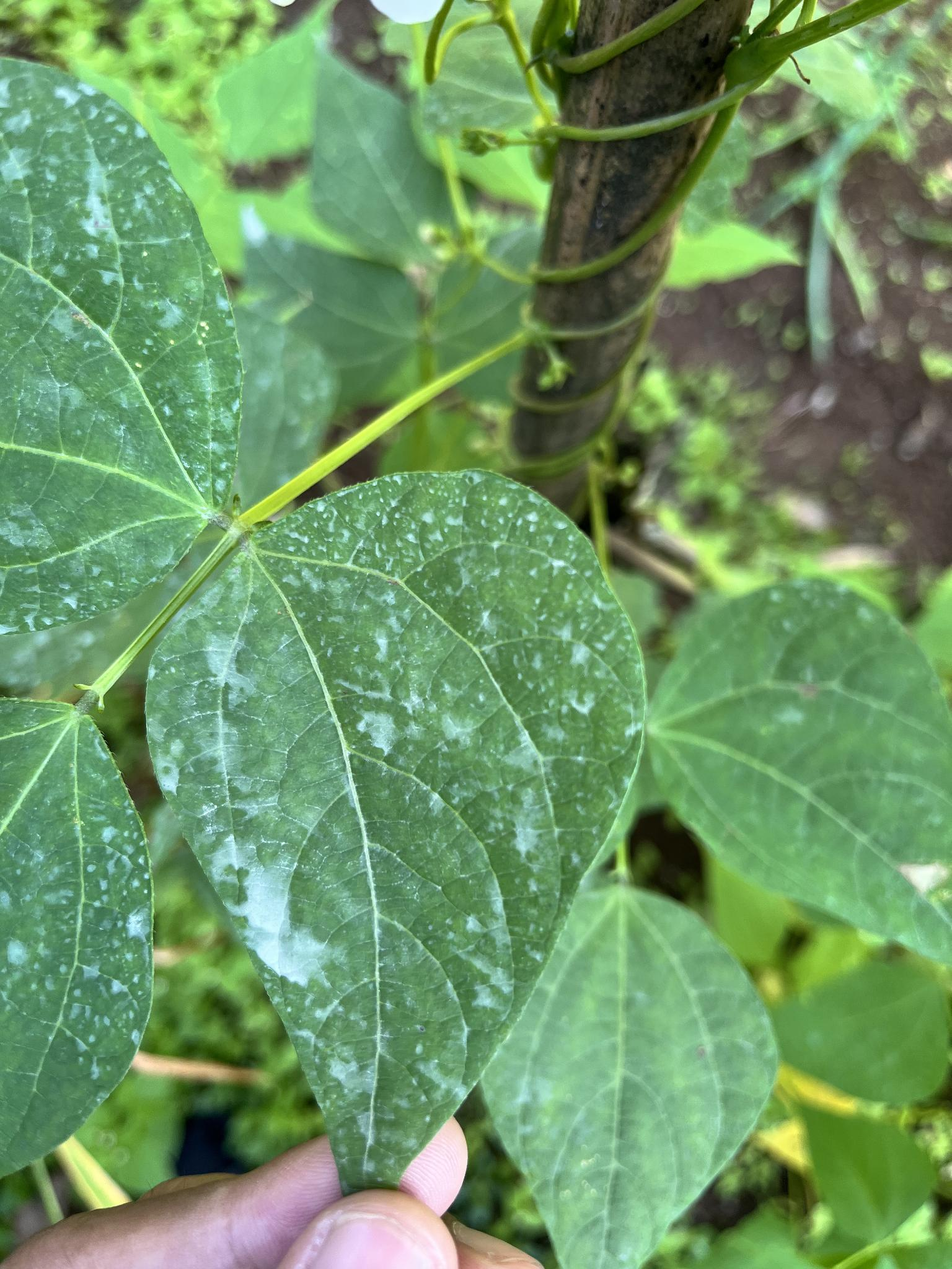embun tepung: (142, 459, 643, 1192)
